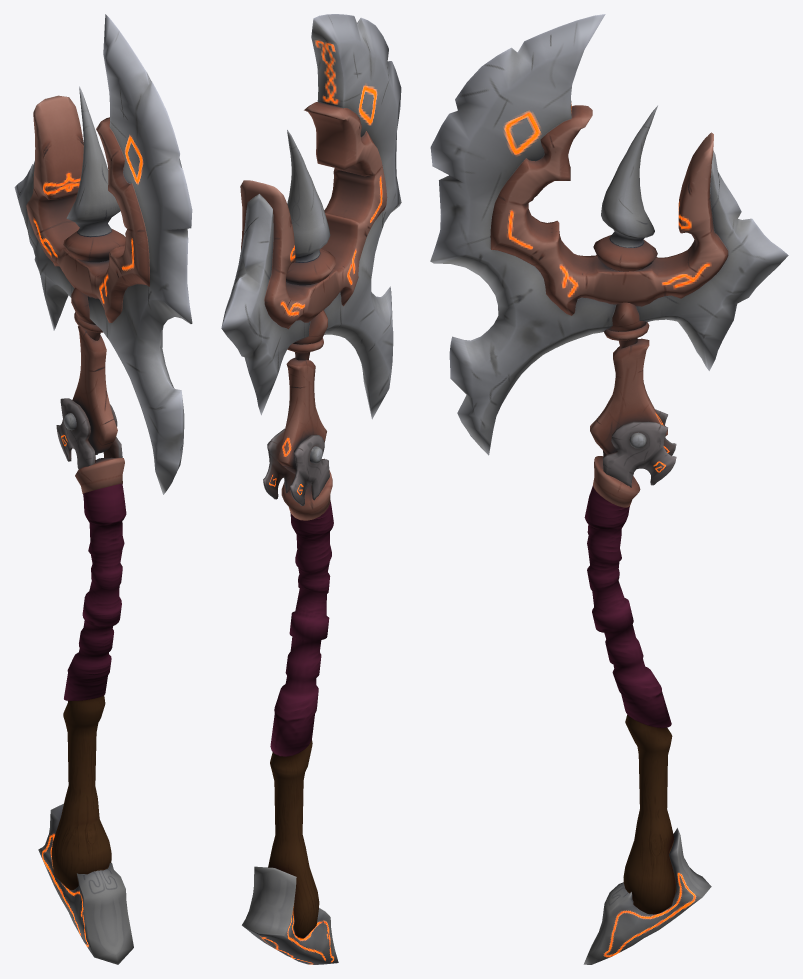
The model's file is fantasy_axe.glb.
3 renders of one model, left to right at view 1: azimuth 30°, elevation 25°; view 2: azimuth 150°, elevation 25°; view 3: azimuth 270°, elevation 25°, orthographic.
Parts seen in each view (by area): view 1: Plane_Low, Plane.001_Low, Cylinder.001_Low, Cylinder_Low, Plane.004_Low, Cylinder.004_Low, Plane.003_Low, Plane.002_Low, Cylinder.005_Low, Cylinder.002_Low, Cylinder.003_Low; view 2: Plane_Low, Plane.001_Low, Cylinder.001_Low, Cylinder_Low, Plane.004_Low, Cylinder.004_Low, Plane.003_Low, Plane.002_Low, Cylinder.002_Low, Cylinder.005_Low, Cylinder.003_Low; view 3: Plane_Low, Plane.001_Low, Cylinder.001_Low, Cylinder_Low, Plane.004_Low, Plane.003_Low, Cylinder.004_Low, Plane.002_Low, Cylinder.005_Low, Cylinder.002_Low, Cylinder.003_Low.
Boxes of the visible parts, x1,y1,x2,y2 form: Plane_Low: (14, 14, 192, 494); Plane.001_Low: (26, 95, 149, 322); Cylinder.001_Low: (64, 483, 126, 700); Cylinder_Low: (51, 695, 111, 890); Plane.004_Low: (38, 803, 133, 964); Cylinder.004_Low: (66, 86, 120, 237); Plane.003_Low: (72, 326, 117, 454); Plane.002_Low: (56, 398, 122, 469); Cylinder.005_Low: (63, 228, 125, 262); Cylinder.002_Low: (75, 457, 124, 493); Cylinder.003_Low: (71, 287, 100, 340); Plane_Low: (221, 14, 401, 419); Plane.001_Low: (240, 102, 387, 329); Cylinder.001_Low: (270, 500, 333, 756); Cylinder_Low: (268, 740, 319, 939); Plane.004_Low: (242, 866, 338, 964); Cylinder.004_Low: (287, 130, 330, 262); Plane.003_Low: (277, 358, 326, 474); Plane.002_Low: (263, 428, 329, 505); Cylinder.002_Low: (281, 470, 332, 520); Cylinder.005_Low: (286, 249, 335, 285); Cylinder.003_Low: (293, 310, 327, 360); Plane_Low: (430, 14, 788, 455); Plane.001_Low: (490, 105, 728, 315); Cylinder.001_Low: (584, 485, 671, 727); Cylinder_Low: (623, 714, 676, 914); Plane.004_Low: (583, 828, 711, 964); Plane.003_Low: (590, 338, 667, 454); Cylinder.004_Low: (601, 105, 657, 247); Plane.002_Low: (603, 409, 676, 487); Cylinder.005_Low: (593, 235, 657, 271); Cylinder.002_Low: (593, 456, 640, 507); Cylinder.003_Low: (608, 302, 646, 348).
Bounding box in the file's own units: 0.0543 × 0.8736 × 0.2989.
1 material, 1 textured.
